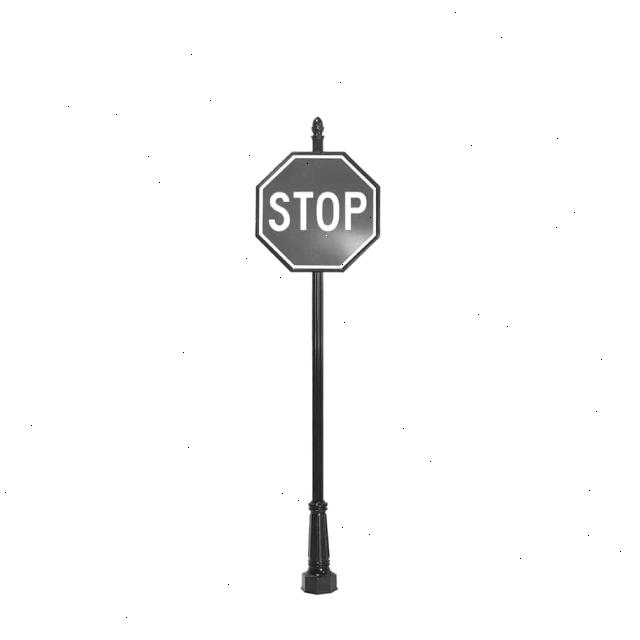Stop-sign: (226, 144, 401, 293)
